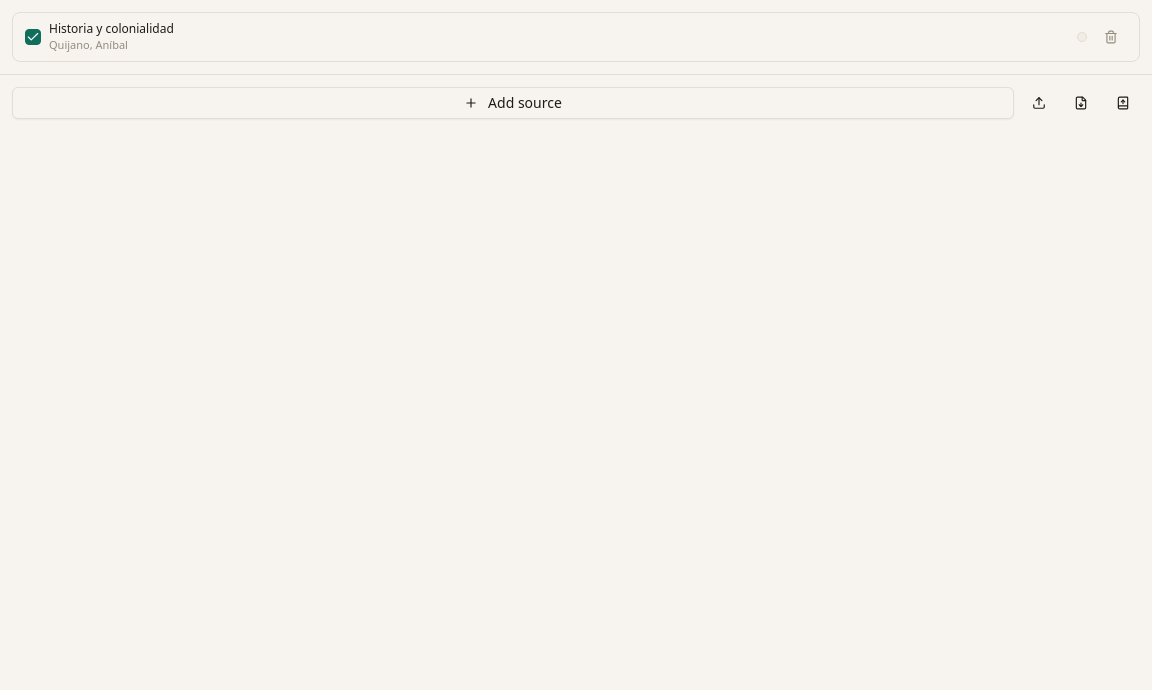
Test case: source metadata editing and reporting (B18) › edits the retained bibliography metadata through the real controls
Note: Expand the row, then the metadata editor.
Click the text "Historia y colonialidad" at (111, 29), box [49, 20, 174, 37]
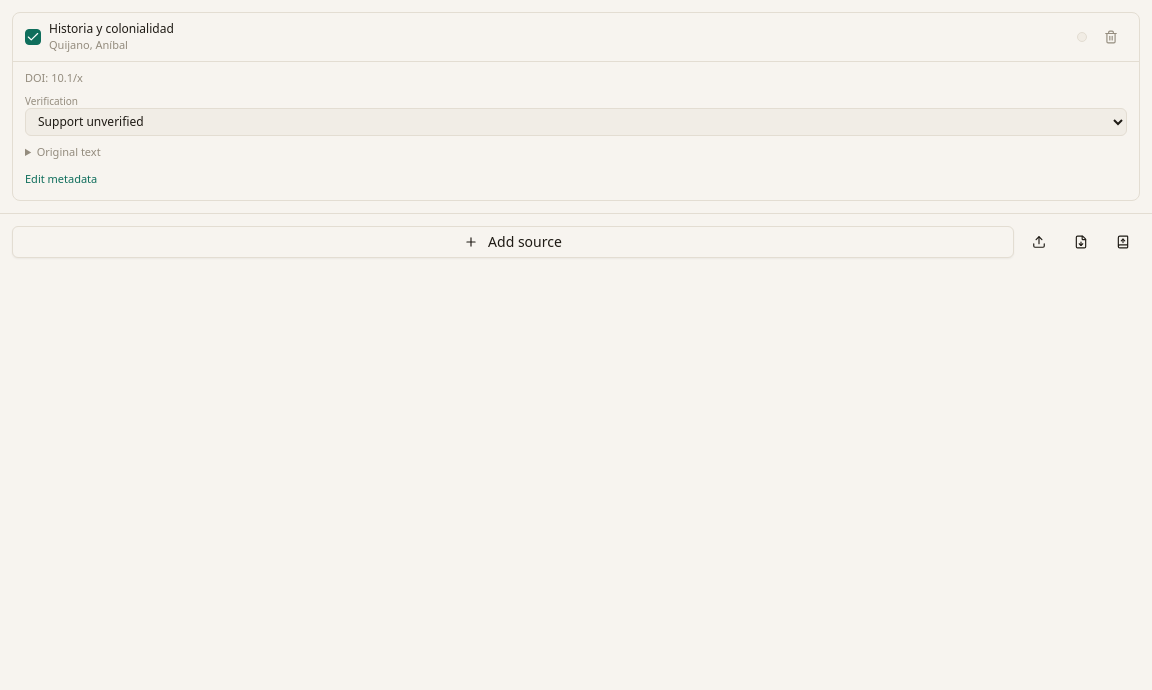
Click the button with aria-label "Edit metadata of" at (61, 179), box [25, 171, 97, 186]
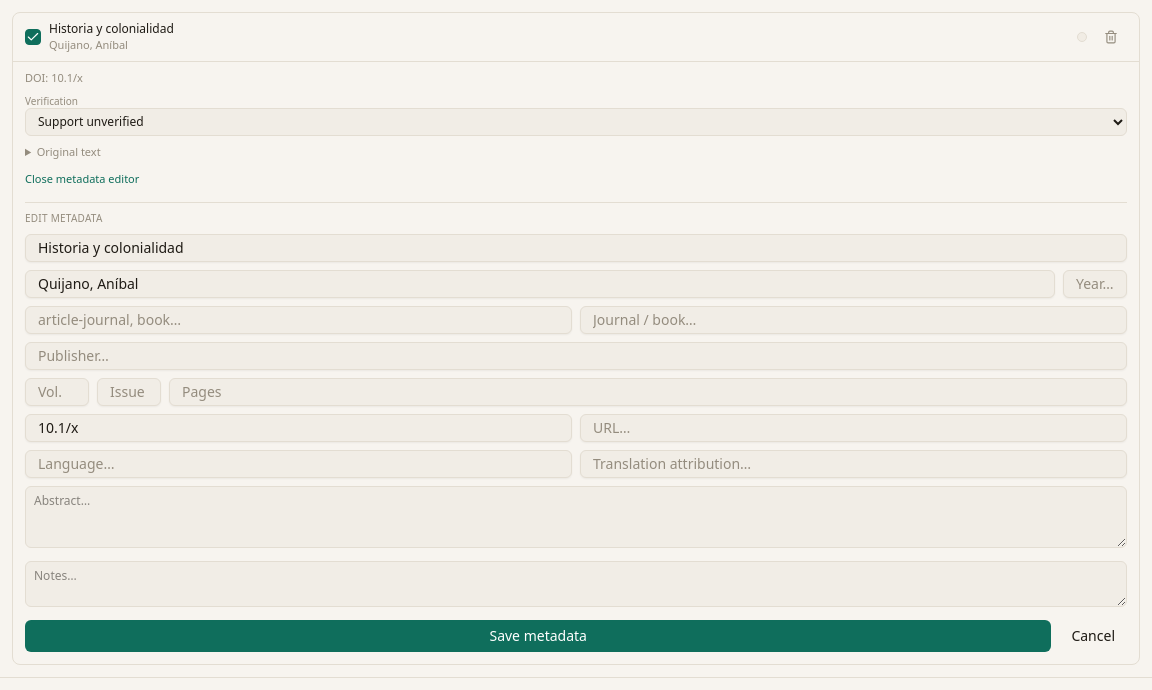
Type "Un resumen." into the text box named "Edit abstract" at (576, 517), box [25, 486, 1127, 548]
Type "article-journal" into the field named "Edit type" at (298, 320), box [25, 306, 572, 334]
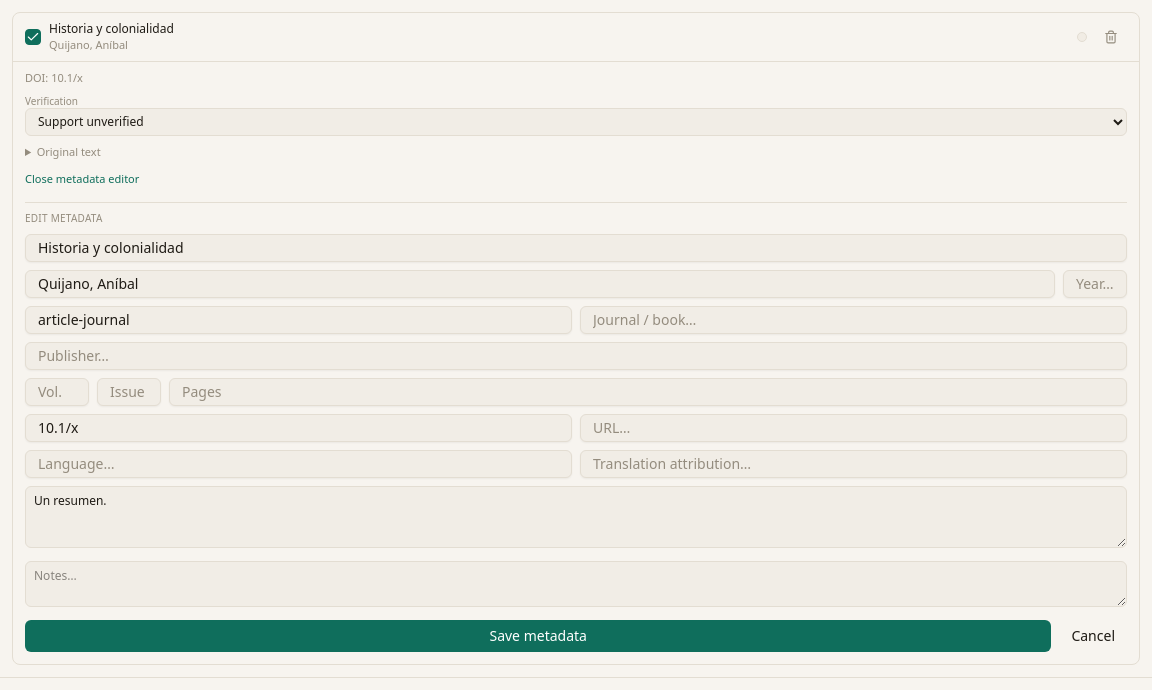
Type "Tabula Rasa" into the field named "Edit container" at (854, 320), box [580, 306, 1127, 334]
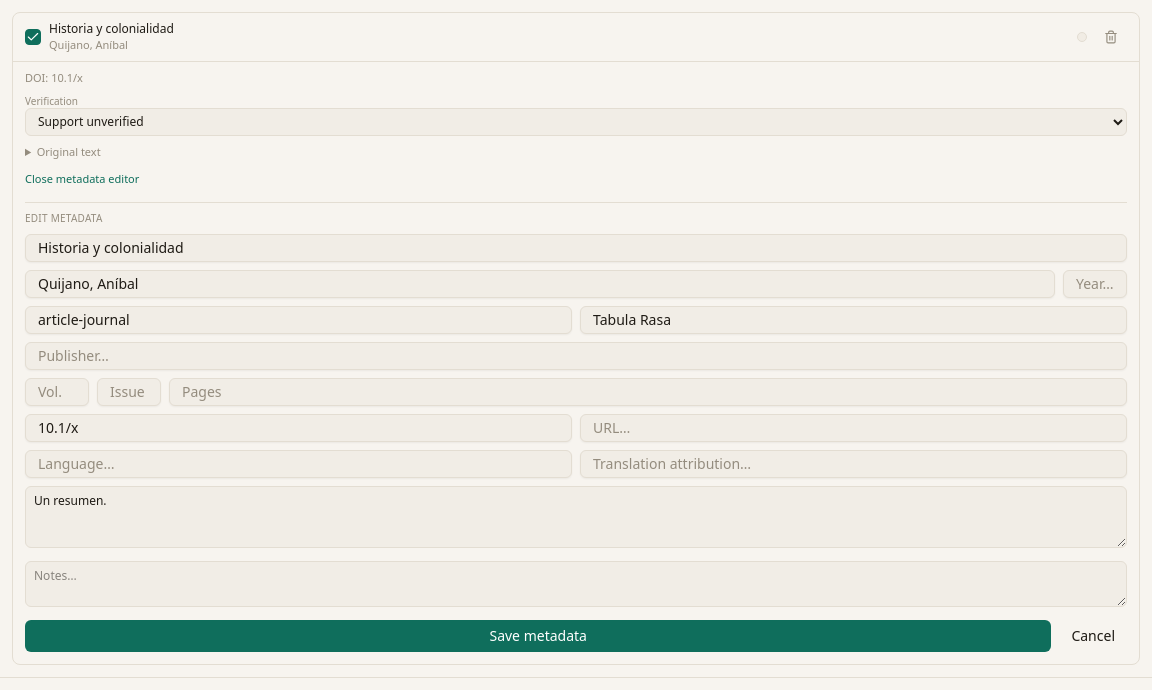
Type "10-20" into the field named "Edit pages" at (648, 392), box [169, 378, 1127, 406]
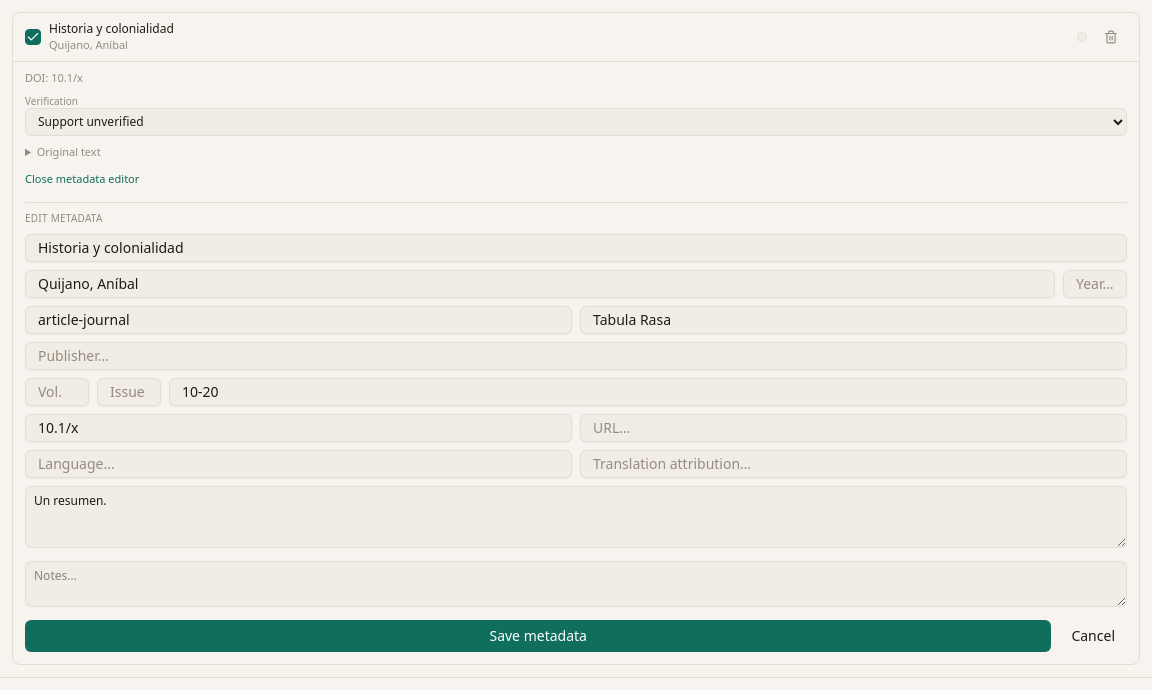
Click the button "Save metadata" at (538, 636), box [25, 620, 1051, 652]
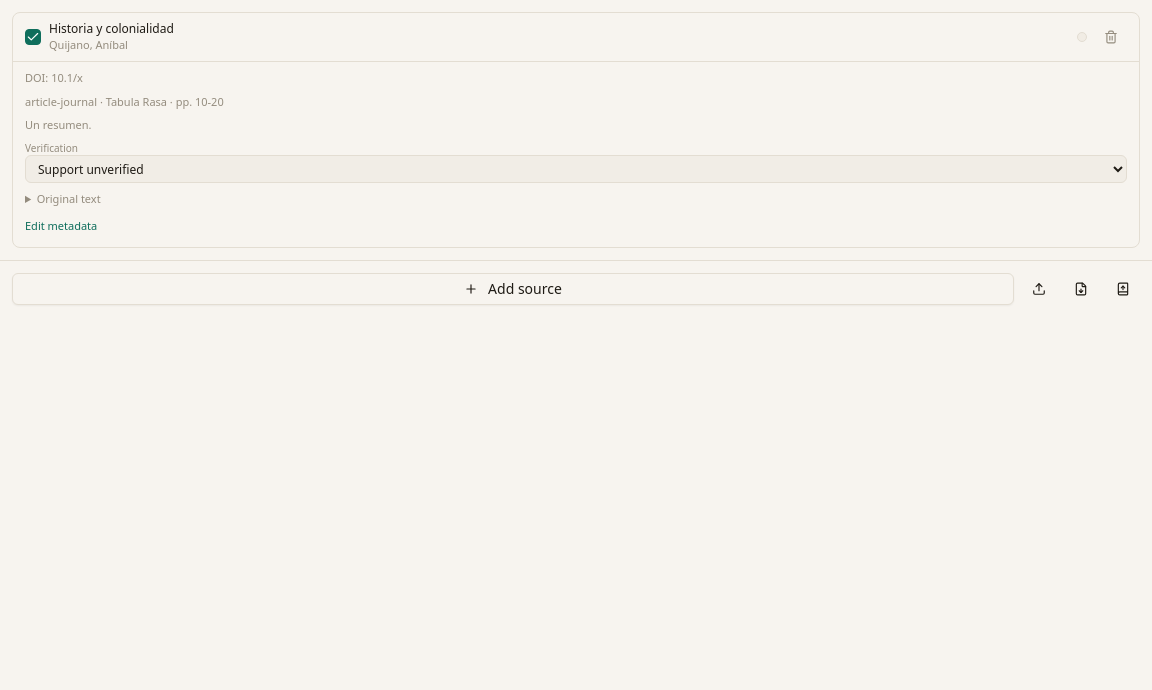
Result: the text "Un resumen." is shown at [25, 117, 92, 132]
